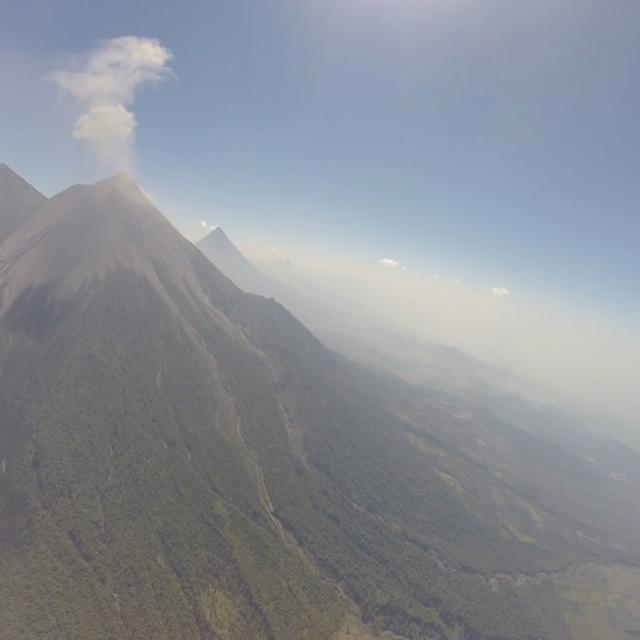Plume: (54, 32, 178, 102), (72, 96, 138, 160)
Summit: (95, 166, 141, 196)
